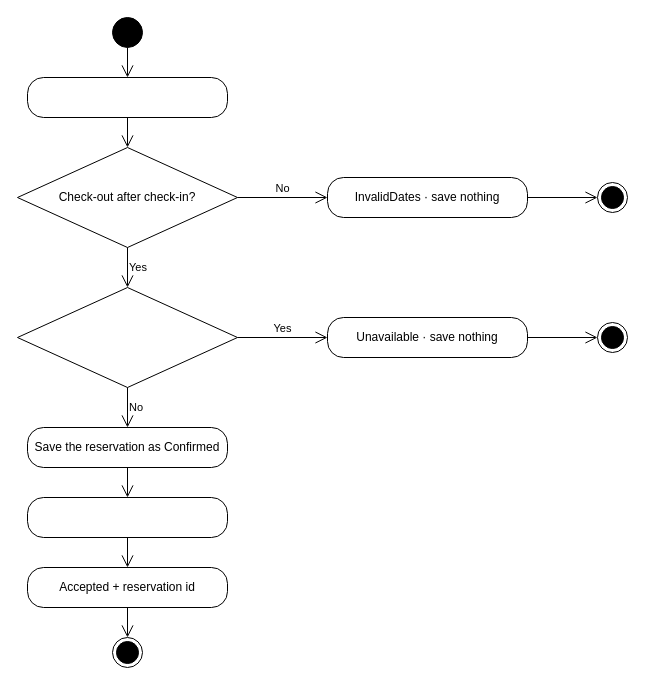
Some shapes in this 645 by 685 pixel diagram are drawn without their labels. Here are the shapes that lost their labels. From the top down, the centre of each, then its label:
At (127,97): "Reserve request received".
At (127,337): "A Confirmed booking shares a night?".
At (127,517): "Send the confirmation email".
